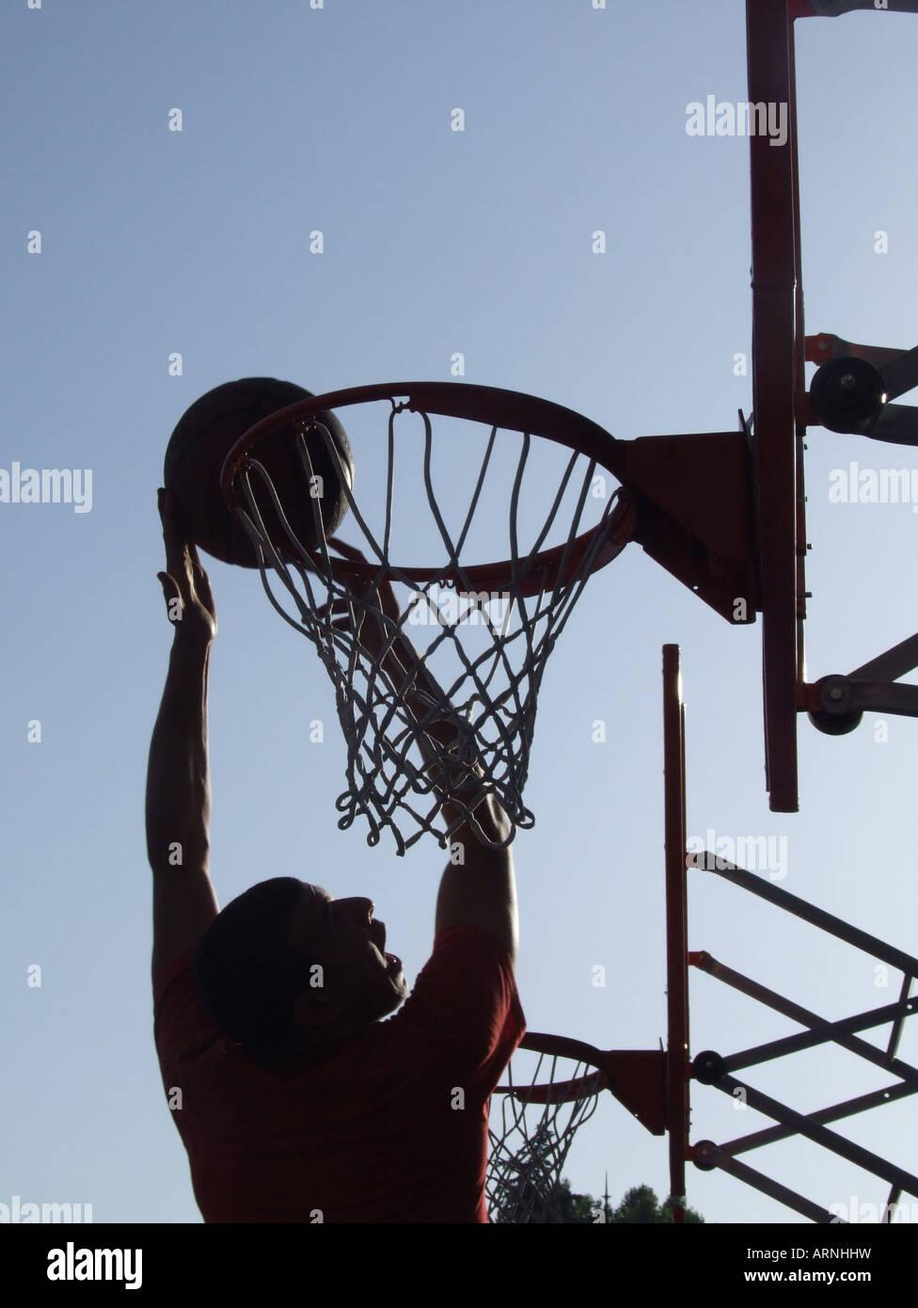basketball: (156, 375, 354, 559)
